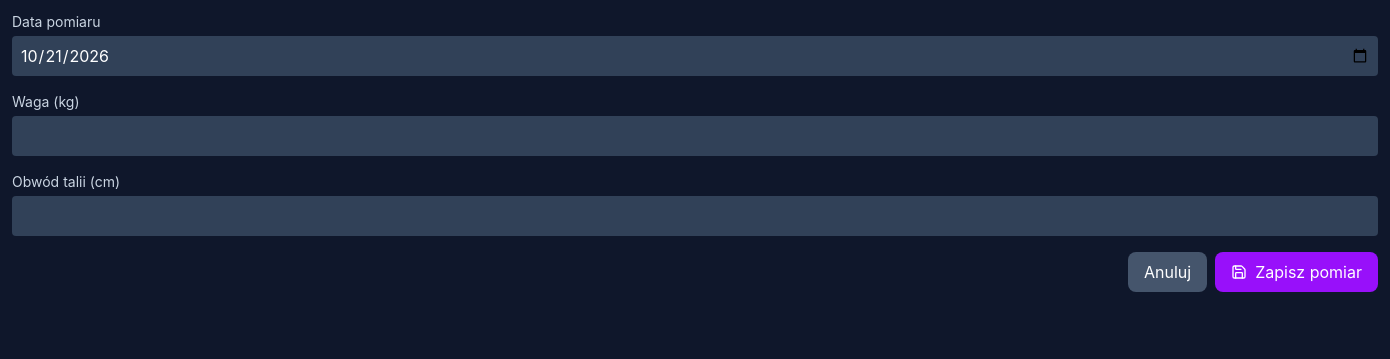
Test: MeasurementForm › shows field errors and does not submit invalid values
The width and height of the screenshot is (1390, 359).
In the field labelled "Waga (kg)": [695, 136] box [12, 116, 1378, 156], type "20"
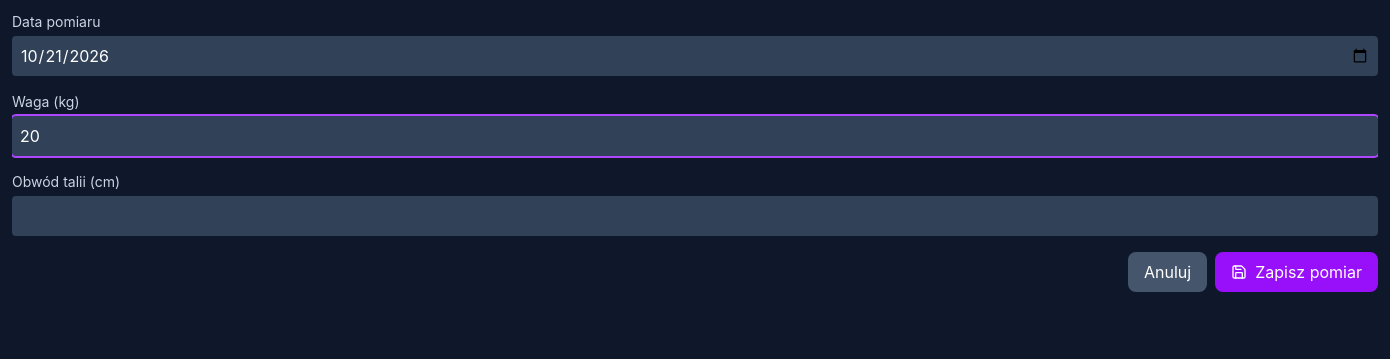
In the field labelled "Obwód talii (cm)": [695, 216] box [12, 196, 1378, 236], type "abc"
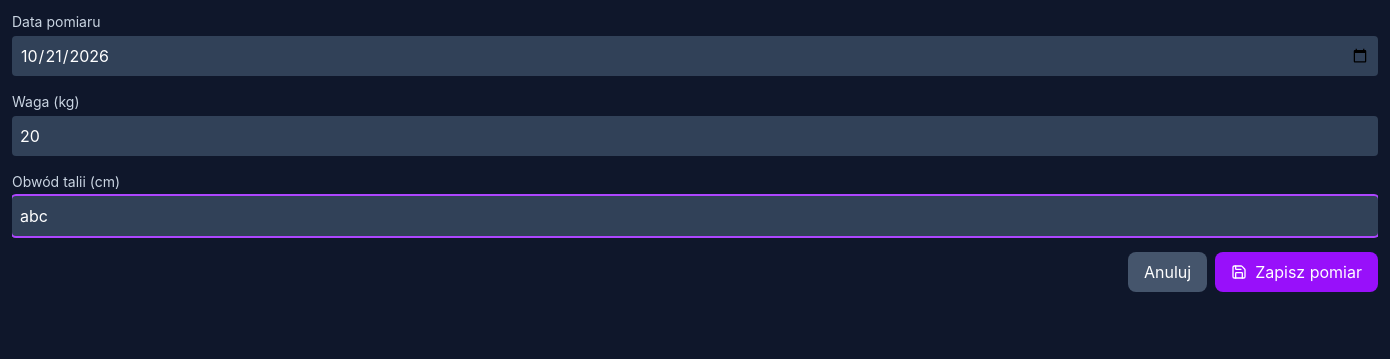
Click the button "Zapisz pomiar": [1297, 272] box [1215, 252, 1378, 292]
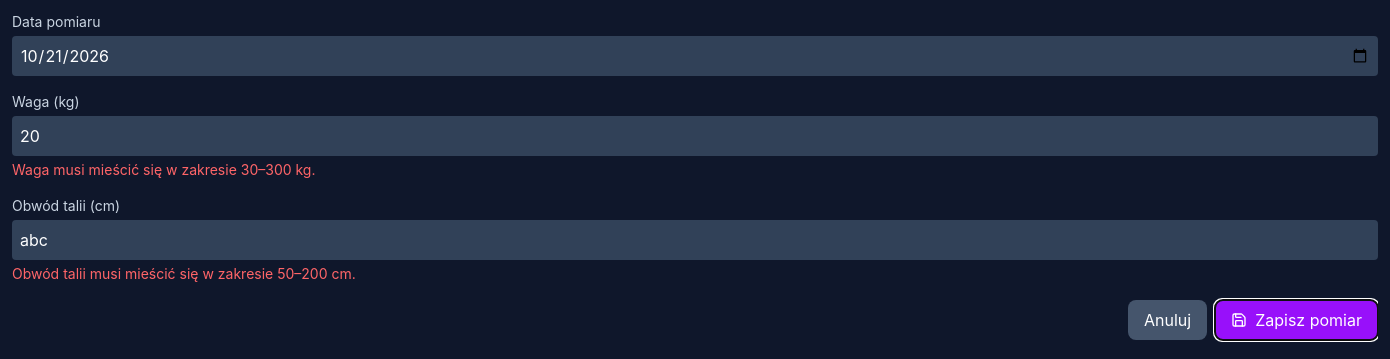
Now the text "Waga musi mieścić się w zakresie 30–300 kg." is shown, box [12, 161, 316, 178]
Now the text "Obwód talii musi mieścić się w zakresie 50–200 cm." is shown, box [12, 265, 356, 282]
